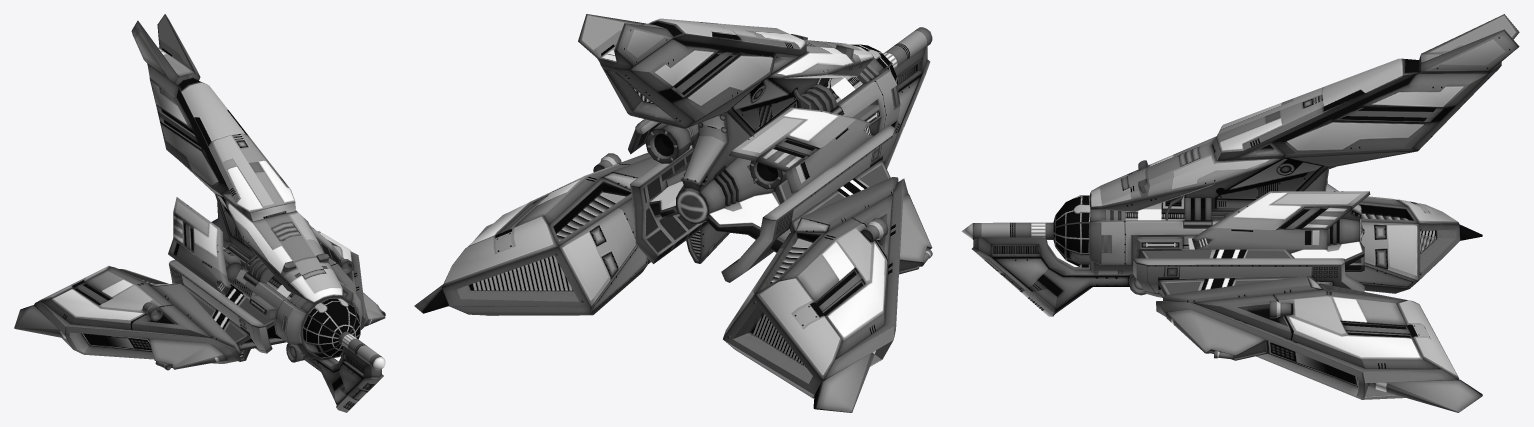
The model's file is Radogost.FBX.
3 views of the same model, side by side, from view 1: azimuth 30°, elevation 25°; view 2: azimuth 150°, elevation 25°; view 3: azimuth 270°, elevation 25° (orthographic). The views are drawn at different scales.
Parts seen in each view (by area): view 1: radogost; view 2: radogost; view 3: radogost.
Boxes of the visible parts, box(x1,y1,x2,y2) form: radogost: box(14, 14, 385, 412); radogost: box(414, 14, 932, 412); radogost: box(961, 14, 1519, 412).
Size of the model in its own units: 900 by 729 by 1189.
